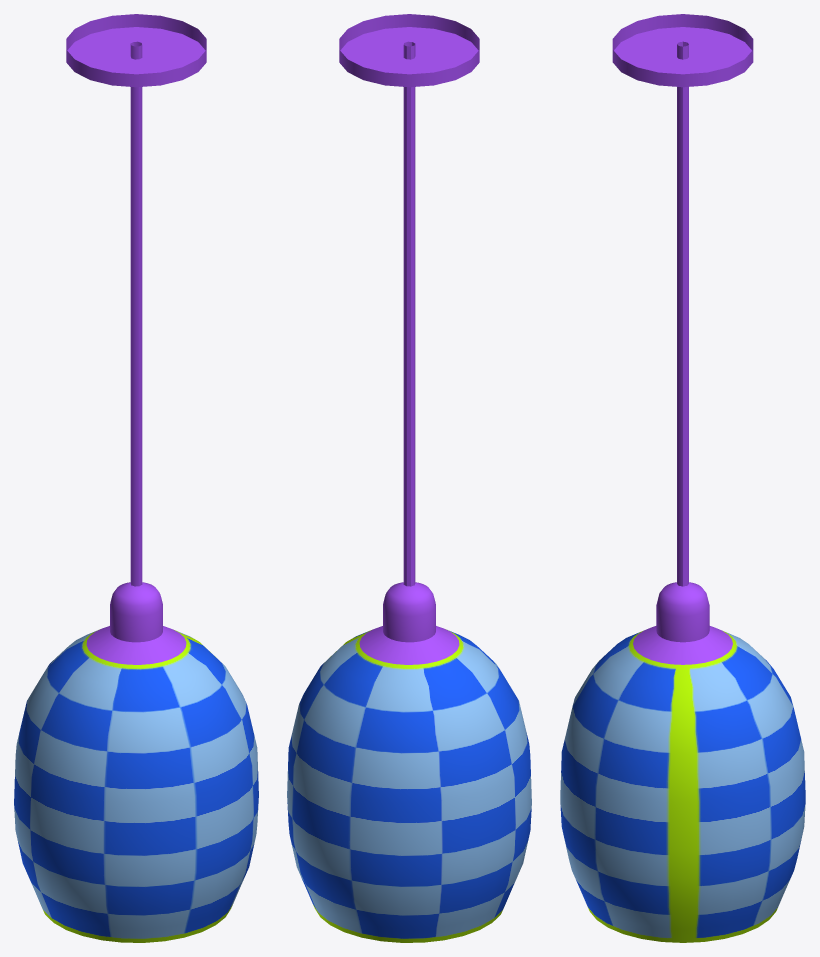
File: LightCeiling17.FBX
3 renders of one model, left to right at view 1: azimuth 30°, elevation 25°; view 2: azimuth 150°, elevation 25°; view 3: azimuth 270°, elevation 25°, orthographic.
Parts seen in each view (by area): view 1: LightCeiling17; view 2: LightCeiling17; view 3: LightCeiling17.
Boxes of the visible parts, left/top/right/bottom form: LightCeiling17: left=14, top=14, right=258, bottom=942; LightCeiling17: left=287, top=14, right=531, bottom=942; LightCeiling17: left=560, top=14, right=805, bottom=942.
Size of the model in its own units: 206 by 796 by 206.
